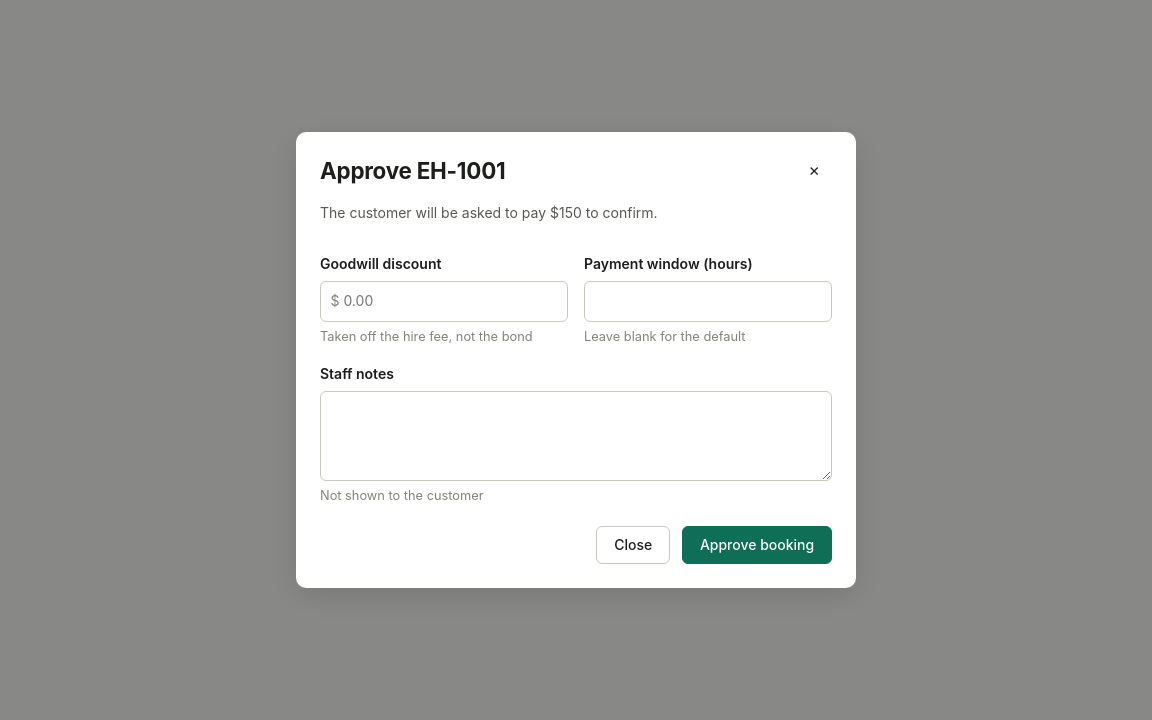
Test case: Booking approval › sends the approval with a discount and shows a success message
Expected: the dialog "Approve EH-1001" is shown, [296, 132, 856, 588]
# give a $20 goodwill discount
Type "20" into the field labelled "Goodwill discount".
click(444, 301); type("20")  # box [320, 280, 568, 322]
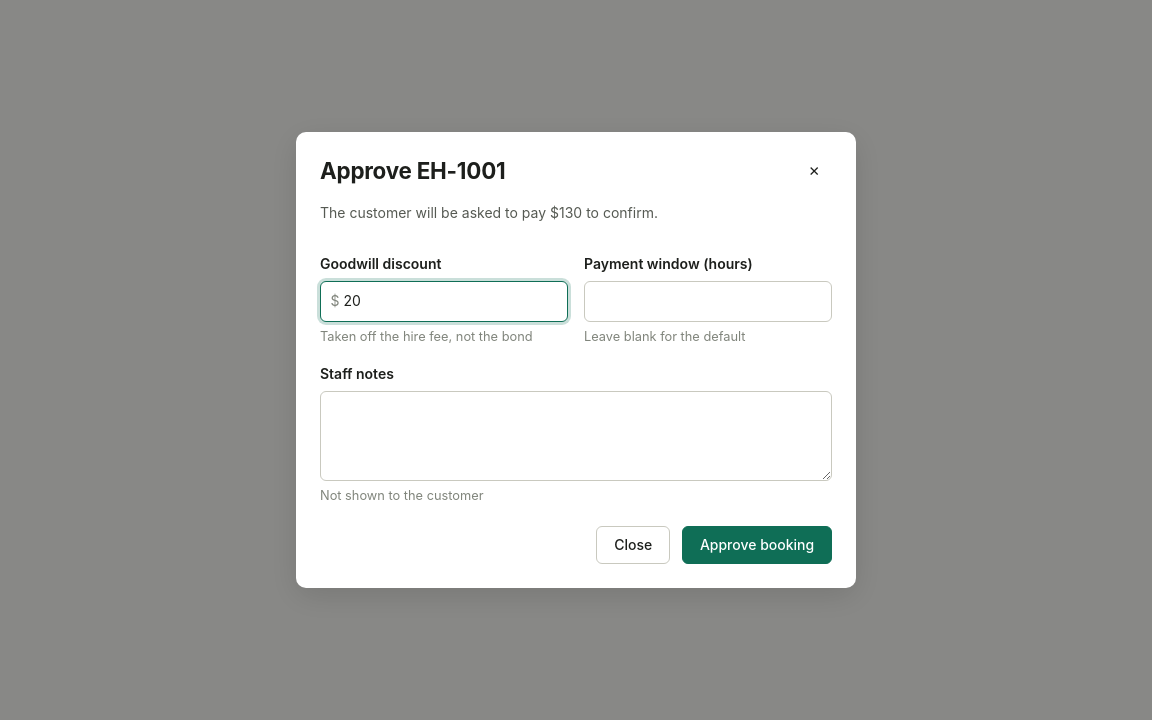
Now the text "The customer will be asked to pay $130 to confirm." is shown, box [320, 204, 658, 221]
# approve the booking
Click the button "Approve booking".
click(757, 545)  # box [682, 526, 832, 564]
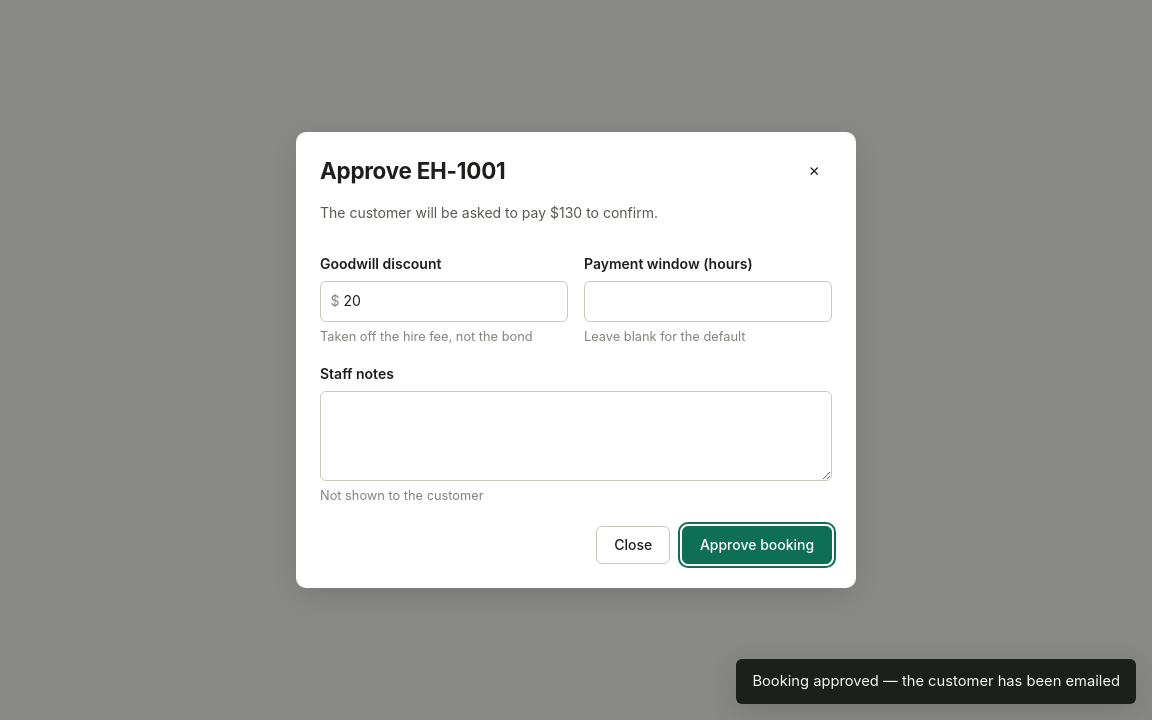
Now the text "Booking approved — the customer has been emailed" is shown, box [736, 659, 1136, 704]
